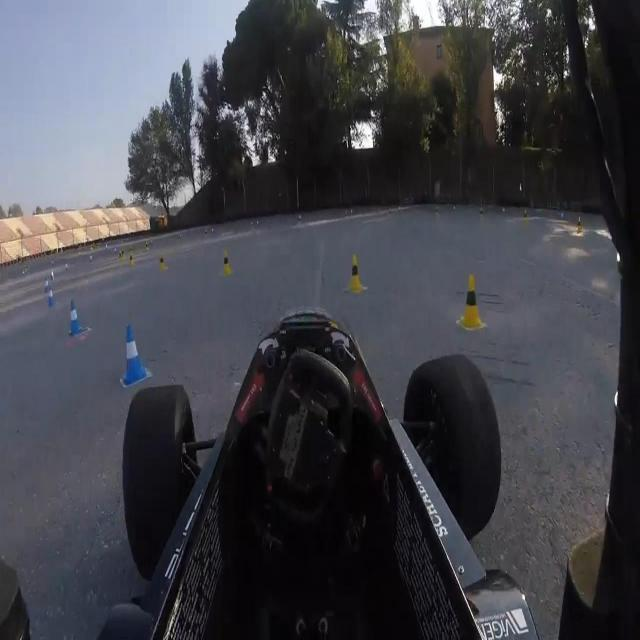blue_cone: (122, 324, 146, 382), (68, 298, 83, 338), (44, 274, 50, 294), (48, 286, 54, 305)
yellow_cone: (458, 273, 484, 332), (344, 253, 365, 294), (220, 247, 233, 277), (158, 251, 167, 273), (128, 249, 136, 269), (118, 248, 122, 264)
